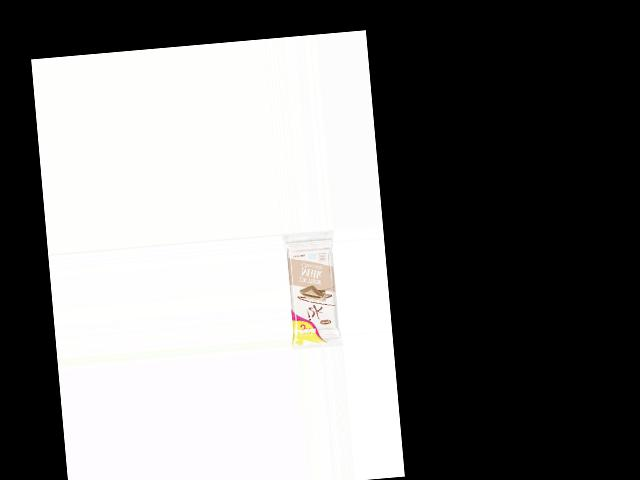chocolate: (283, 240, 344, 350)
